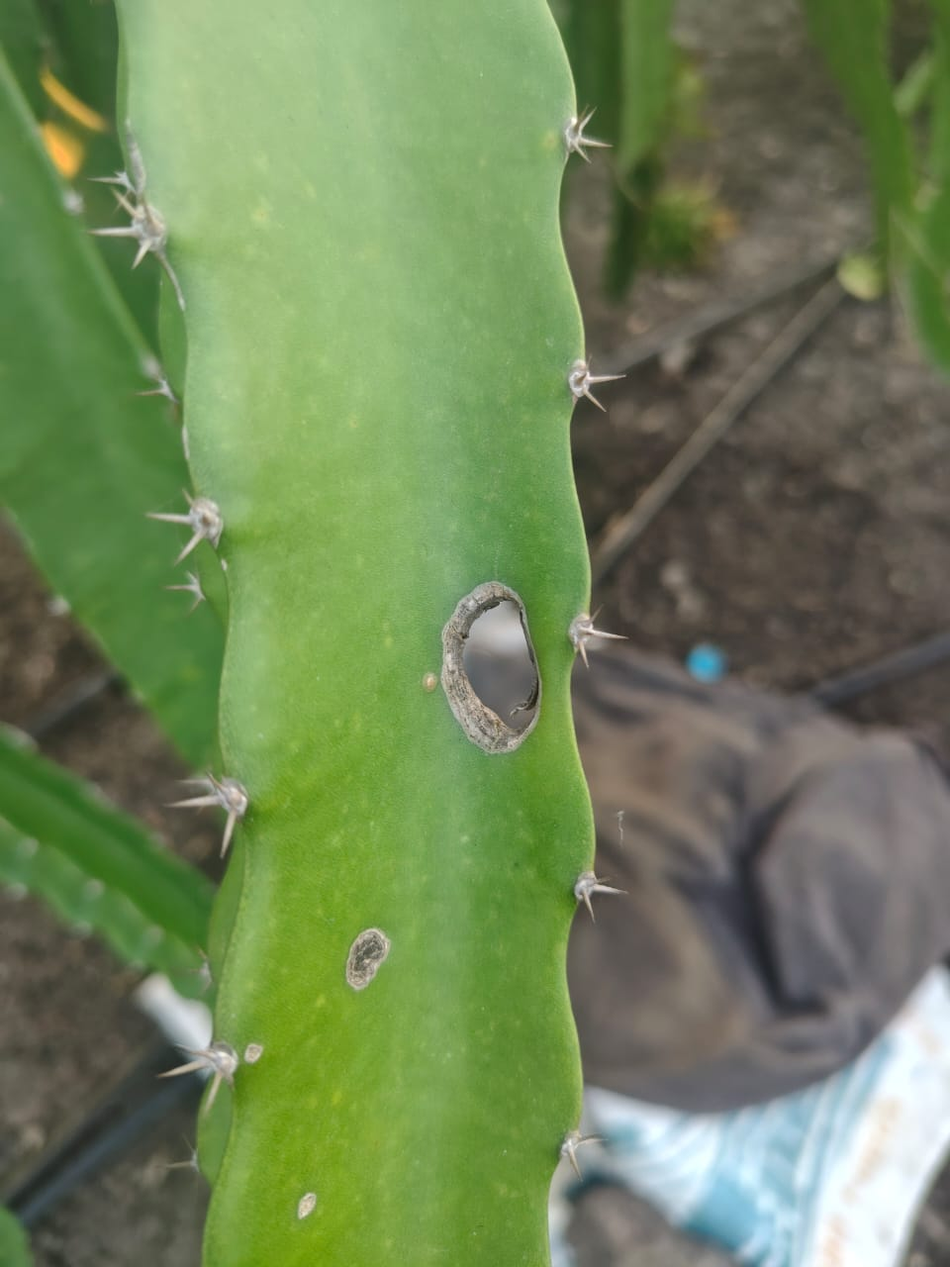stemcanker: (429, 571, 550, 764), (340, 924, 397, 996)
